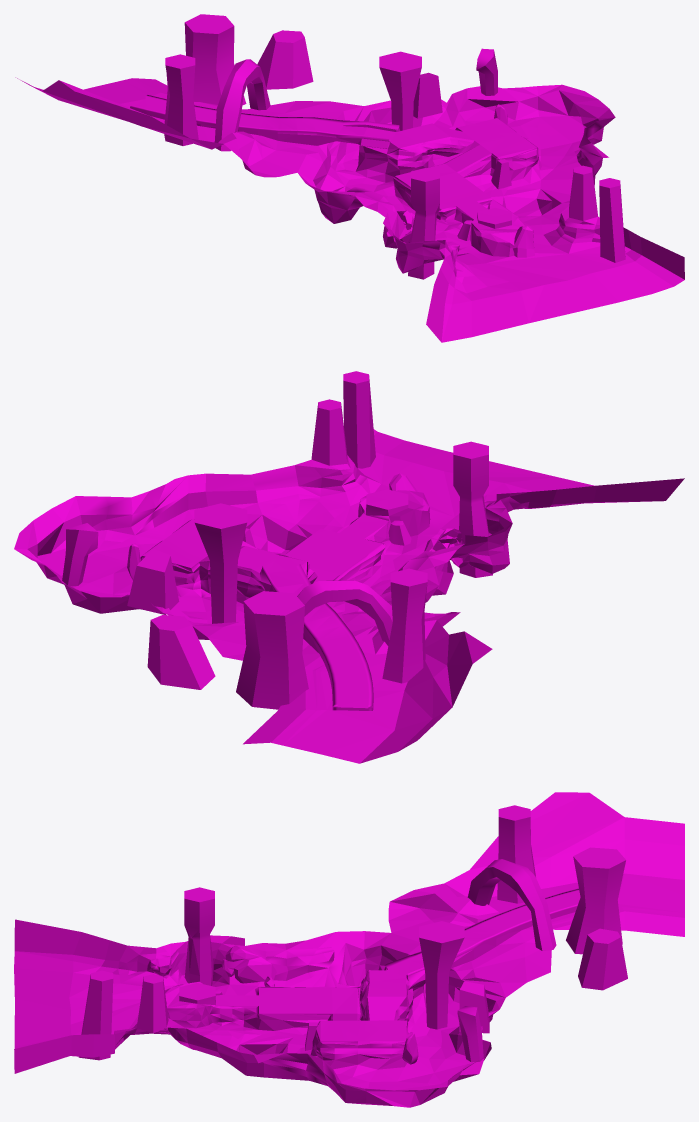
Rendered from Enviro_Level_3_COL.fbx.
3 renders of one model, top to bottom at view 1: azimuth 30°, elevation 25°; view 2: azimuth 150°, elevation 25°; view 3: azimuth 270°, elevation 25°, orthographic. The views are drawn at different scales.
Visible parts, largest first — view 1: Level03_COL; view 2: Level03_COL; view 3: Level03_COL.
Part boxes in pixels (left/top/right/bottom): Level03_COL: left=15, top=14, right=684, bottom=342; Level03_COL: left=14, top=371, right=684, bottom=763; Level03_COL: left=14, top=792, right=684, bottom=1107.
Size of the model in its own units: 8960 by 2469 by 10904.
